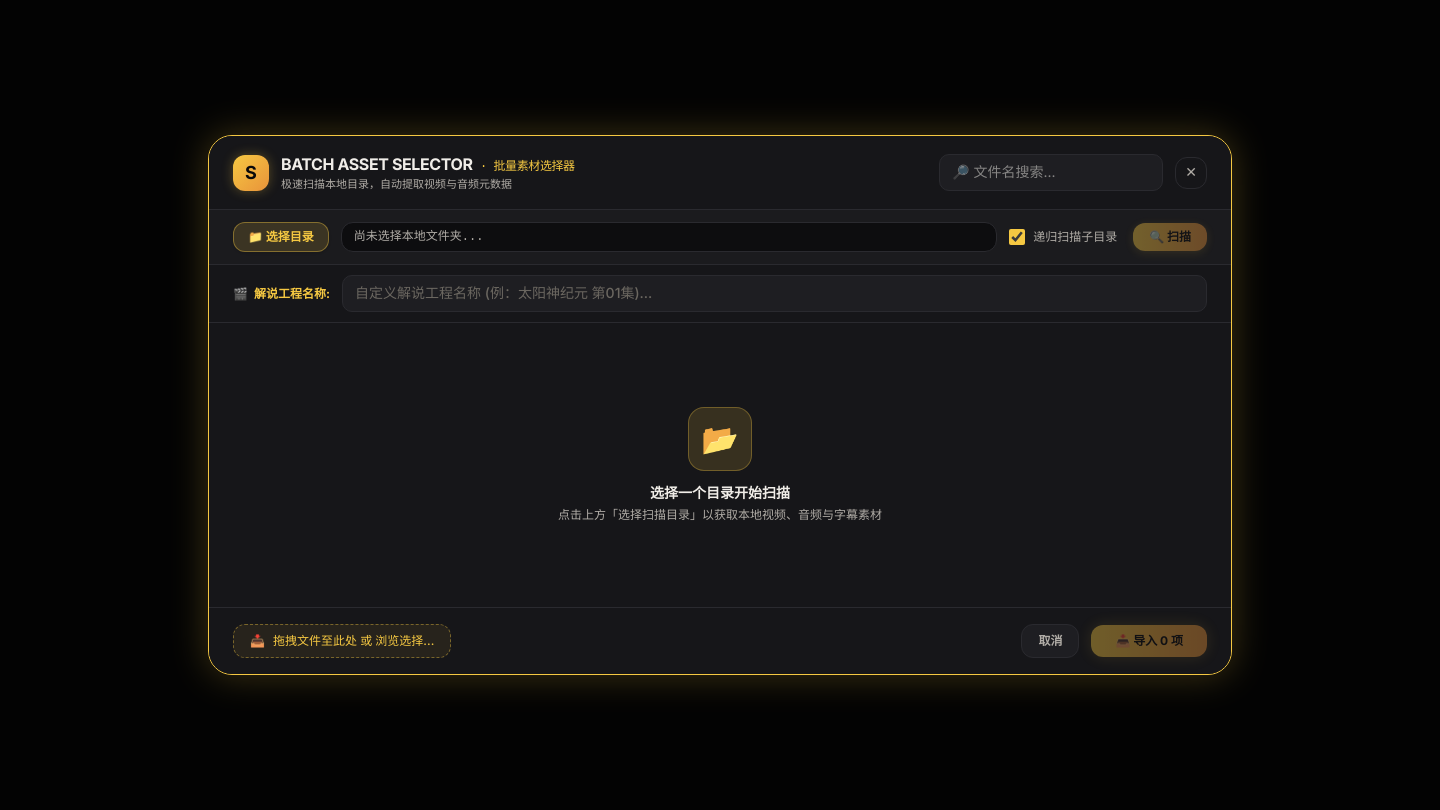
Test: BatchImportDialog › 扫描失败 → 错误条显示
The width and height of the screenshot is (1440, 810).
Click the button "📁 选择目录" at (281, 238), box [233,222,329,252]
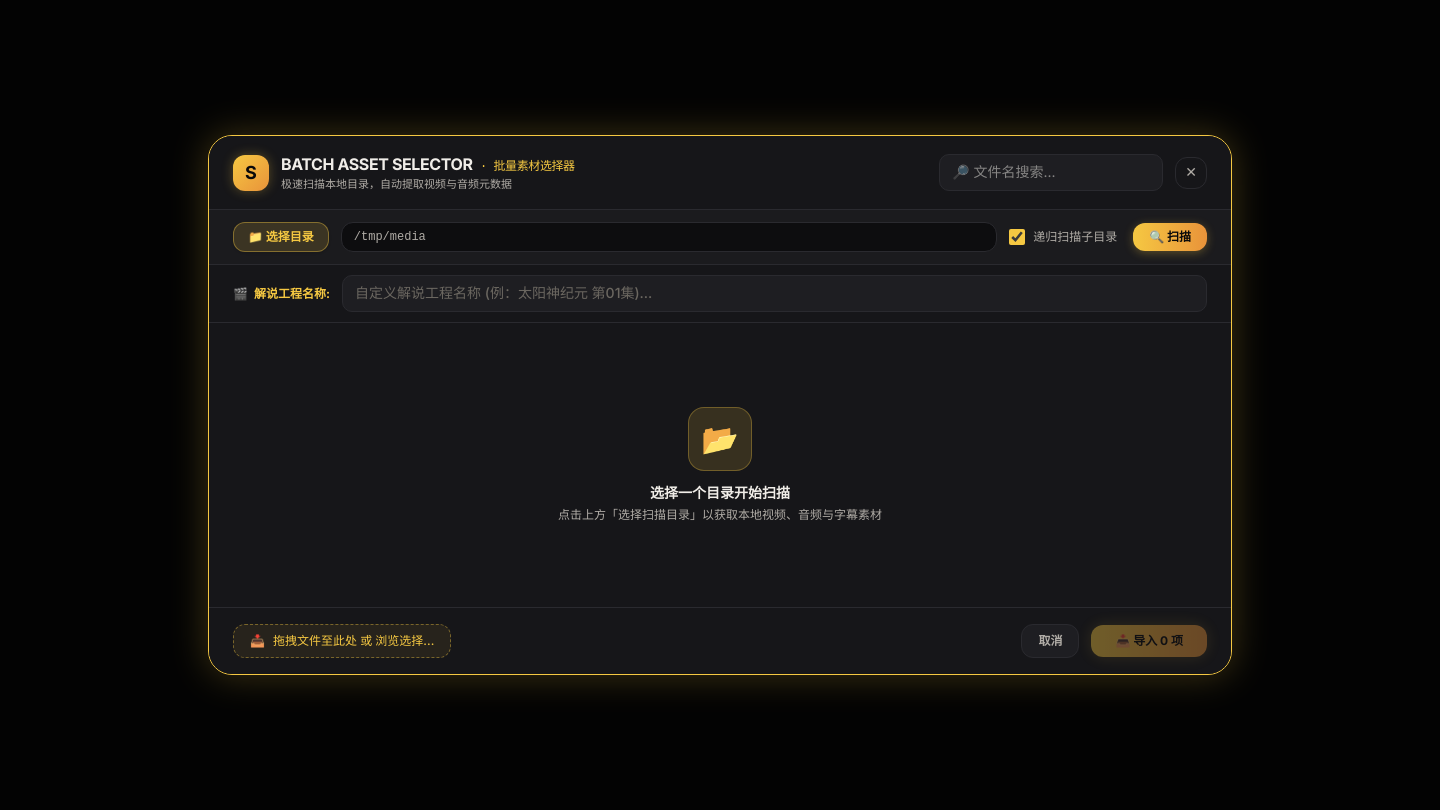
Now the text "/tmp/media" is shown, box [341,222,997,252]
Click the button "🔍 扫描" at (1170, 238), box [1133,224,1207,252]
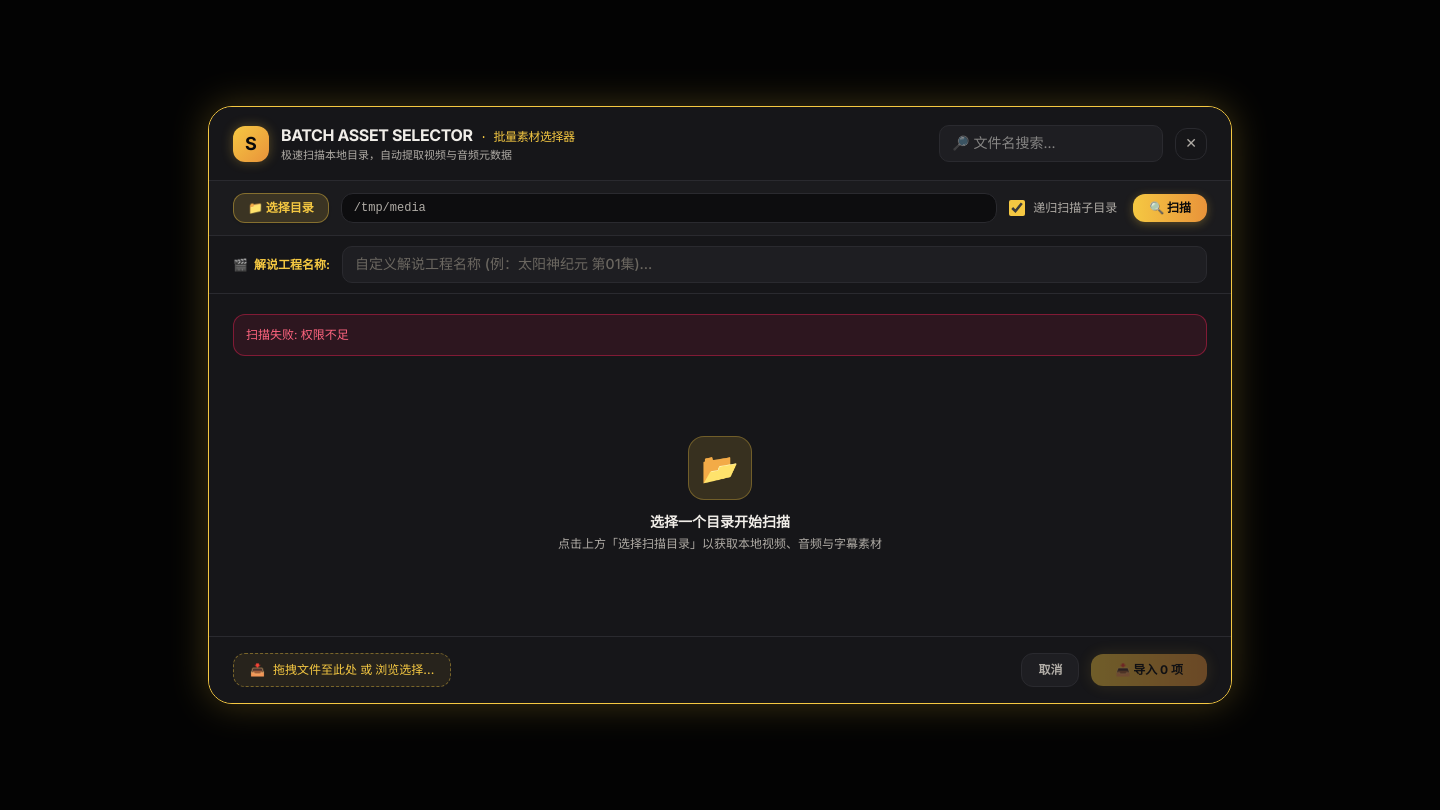
Now the text "扫描失败: 权限不足" is shown, box [233,314,1207,356]
